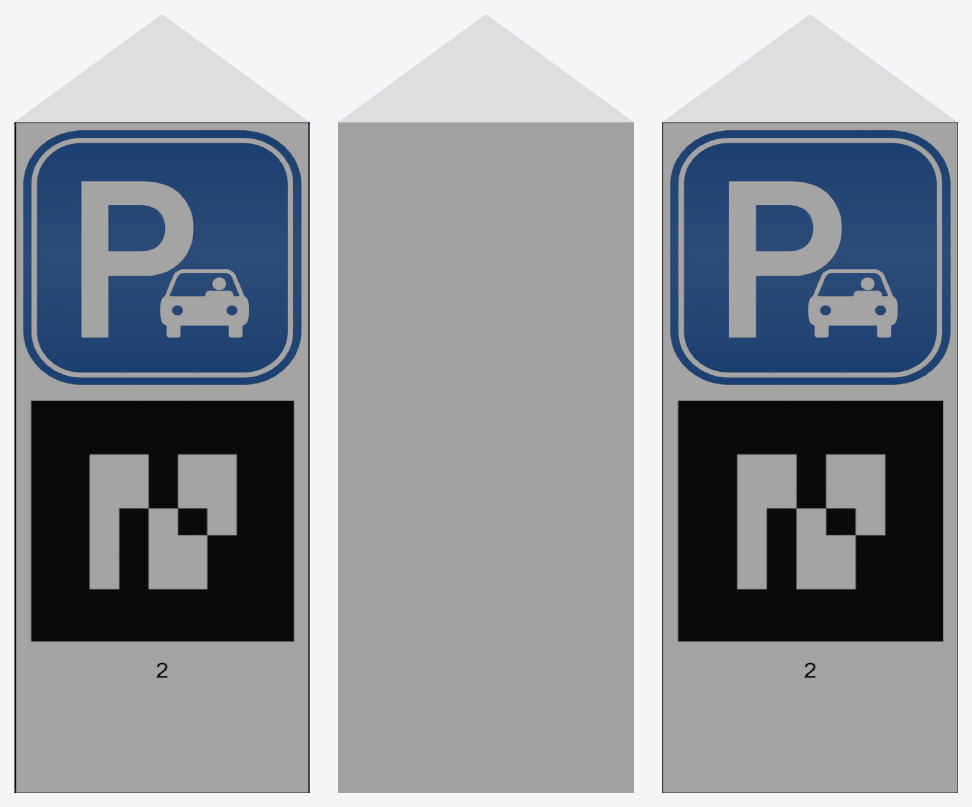
File: parking_obstacle.dae
3 views of the same model, side by side, from view 1: azimuth 30°, elevation 25°; view 2: azimuth 150°, elevation 25°; view 3: azimuth 270°, elevation 25° (orthographic).
Parts seen in each view (by area): view 1: Body2; view 2: Body2; view 3: Body2.
Boxes of the visible parts, x1,y1,x2,y2 form: Body2: (14,14,309,792); Body2: (338,14,633,792); Body2: (662,14,957,792).
Bounding box in the file's own units: 0.0866 × 0.1 × 0.25.
Materials: 2 (1 with a texture image).
